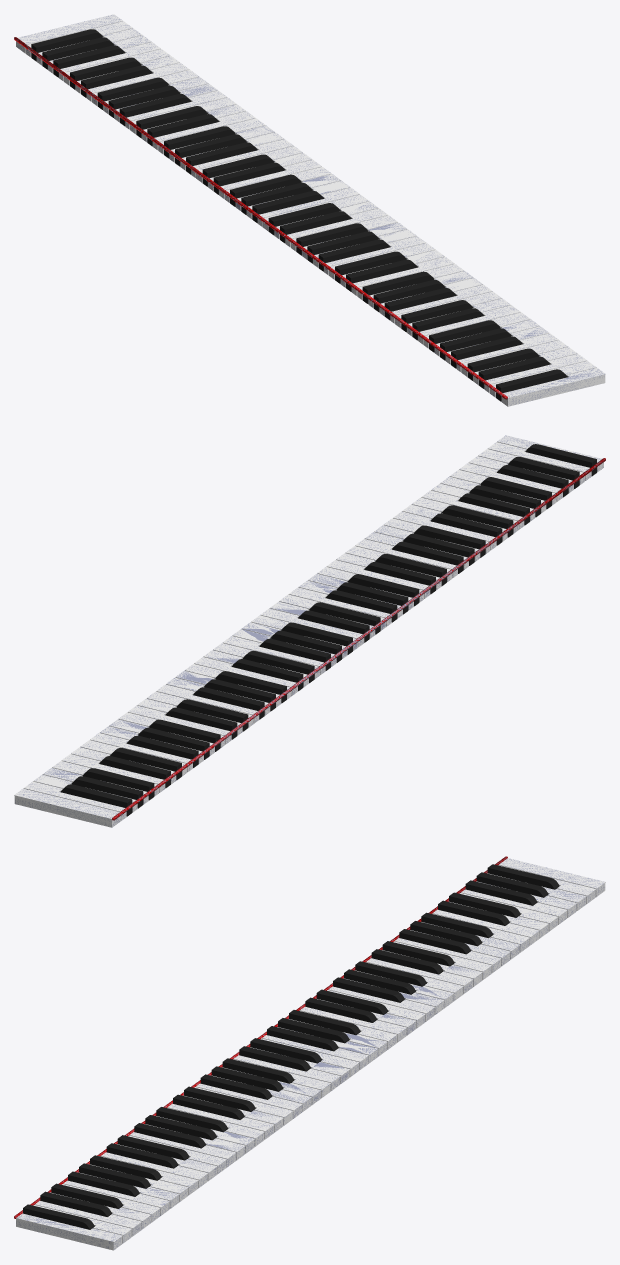
The model's file is Piano.fbx.
3 views of the same model, one above another, from view 1: azimuth 30°, elevation 25°; view 2: azimuth 150°, elevation 25°; view 3: azimuth 330°, elevation 25° (orthographic).
Parts seen in each view (by area): view 1: Red_line_cover1, last_key_Left1, last_key_Right1, Black_keys28, Black_keys30, Black_keys15, Black_keys31, Black_keys17, Black_keys21, Black_keys8, Black_keys29, Black_keys36 (+41 smaller); view 2: Red_line_cover1, last_key_Right1, Key_E1, Black_keys4, Black_keys25, Black_keys6, Black_keys7, Black_keys3, Black_keys5, Black_keys27, Black_keys12, Black_keys26 (+41 smaller); view 3: last_key_Left1, last_key_Right1, Key_C7, Key_C4, Key_C1, Red_line_cover1, Key_C2, Key_C3, Key_C6, Key_C5, Black_keys5, Black_keys24 (+43 smaller).
Part boxes in pixels (box(x1,y1,x2,y2)): Red_line_cover1: box(14, 37, 507, 399); last_key_Left1: box(501, 368, 605, 406); last_key_Right1: box(16, 14, 122, 53); Black_keys28: box(384, 288, 456, 320); Black_keys30: box(362, 271, 434, 303); Black_keys15: box(164, 126, 235, 158); Black_keys31: box(478, 356, 550, 388); Black_keys17: box(268, 203, 340, 235); Black_keys21: box(346, 259, 417, 291); Black_keys8: box(119, 94, 191, 126); Black_keys29: box(373, 280, 445, 311); Black_keys36: box(496, 369, 567, 401); Red_line_cover1: box(112, 458, 605, 820); last_key_Right1: box(14, 788, 121, 827); Key_E1: box(487, 442, 591, 480); Black_keys4: box(71, 776, 143, 808); Black_keys25: box(325, 590, 397, 622); Black_keys6: box(176, 699, 248, 731); Black_keys7: box(165, 707, 237, 739); Black_keys3: box(82, 768, 154, 800); Black_keys5: box(60, 784, 132, 816); Black_keys27: box(431, 513, 502, 545); Black_keys12: box(231, 659, 303, 691); Black_keys26: box(441, 505, 513, 537); last_key_Left1: box(16, 1213, 122, 1250); last_key_Right1: box(499, 858, 605, 897); Key_C7: box(432, 909, 539, 945); Key_C4: box(234, 1055, 340, 1090); Key_C1: box(35, 1201, 141, 1236); Red_line_cover1: box(14, 856, 507, 1218); Key_C2: box(101, 1152, 208, 1188); Key_C3: box(167, 1103, 274, 1139); Key_C6: box(366, 958, 473, 994); Key_C5: box(300, 1006, 406, 1042); Black_keys5: box(487, 864, 559, 889); Black_keys24: box(211, 1066, 283, 1091).
Bounding box in the file's own units: 152 × 20.64 × 1296.
